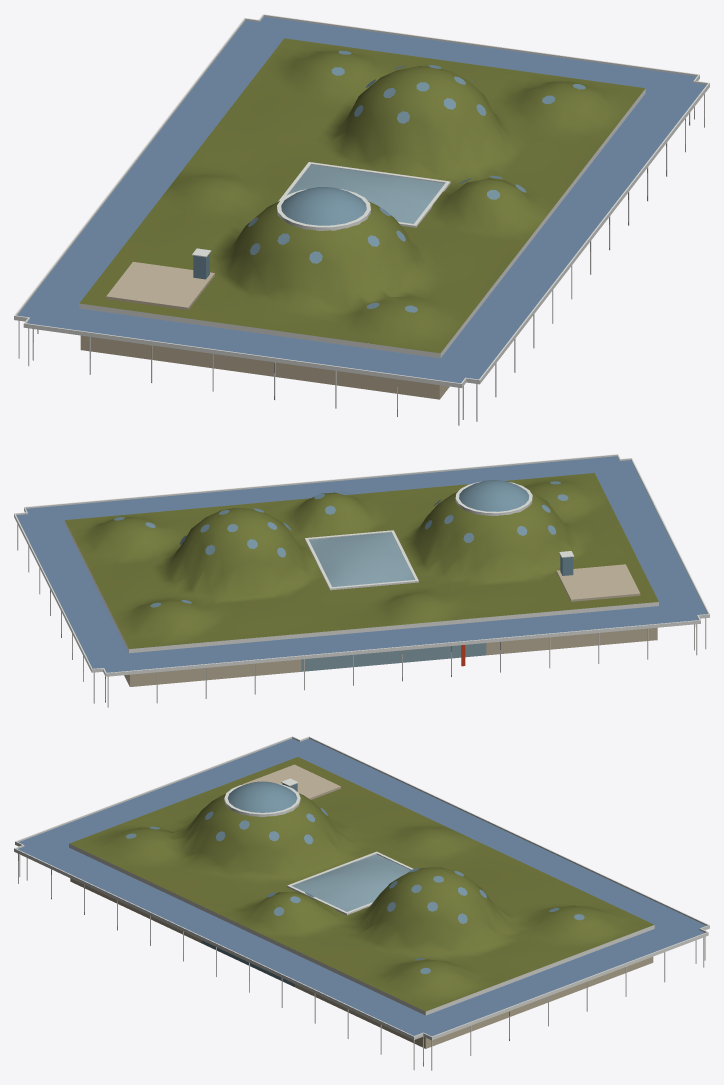
Rendered from california-academy-of-sciences-far.glb.
3 views of the same model, one above another, from view 1: azimuth 30°, elevation 25°; view 2: azimuth 150°, elevation 25°; view 3: azimuth 270°, elevation 25° (orthographic). The views are drawn at different scales.
Visible parts, largest first — view 1: california-academy-of-sciences-0-green, california-academy-of-sciences-0-pv, california-academy-of-sciences-0-white, california-academy-of-sciences-0-stone, california-academy-of-sciences-0-glass, california-academy-of-sciences-0-glow; view 2: california-academy-of-sciences-0-green, california-academy-of-sciences-0-pv, california-academy-of-sciences-0-white, california-academy-of-sciences-0-stone, california-academy-of-sciences-0-glow, california-academy-of-sciences-0-glass; view 3: california-academy-of-sciences-0-green, california-academy-of-sciences-0-pv, california-academy-of-sciences-0-white, california-academy-of-sciences-0-stone, california-academy-of-sciences-0-glass, california-academy-of-sciences-0-glow.
Part boxes in pixels (left/top/right/bottom): california-academy-of-sciences-0-green: left=79, top=38, right=645, bottom=353; california-academy-of-sciences-0-pv: left=17, top=16, right=706, bottom=383; california-academy-of-sciences-0-white: left=14, top=14, right=709, bottom=425; california-academy-of-sciences-0-stone: left=80, top=261, right=449, bottom=399; california-academy-of-sciences-0-glass: left=193, top=50, right=585, bottom=312; california-academy-of-sciences-0-glow: left=288, top=164, right=444, bottom=223; california-academy-of-sciences-0-green: left=65, top=473, right=658, bottom=648; california-academy-of-sciences-0-pv: left=16, top=456, right=707, bottom=672; california-academy-of-sciences-0-white: left=14, top=454, right=709, bottom=707; california-academy-of-sciences-0-stone: left=124, top=564, right=657, bottom=686; california-academy-of-sciences-0-glow: left=301, top=532, right=486, bottom=671; california-academy-of-sciences-0-glass: left=114, top=480, right=573, bottom=607; california-academy-of-sciences-0-green: left=69, top=757, right=654, bottom=1011; california-academy-of-sciences-0-pv: left=17, top=738, right=706, bottom=1036; california-academy-of-sciences-0-white: left=14, top=736, right=709, bottom=1070; california-academy-of-sciences-0-stone: left=70, top=764, right=653, bottom=1048; california-academy-of-sciences-0-glass: left=126, top=781, right=584, bottom=986; california-academy-of-sciences-0-glow: left=292, top=854, right=410, bottom=911.
Bounding box in the file's own units: 184 × 27.4 × 179.
